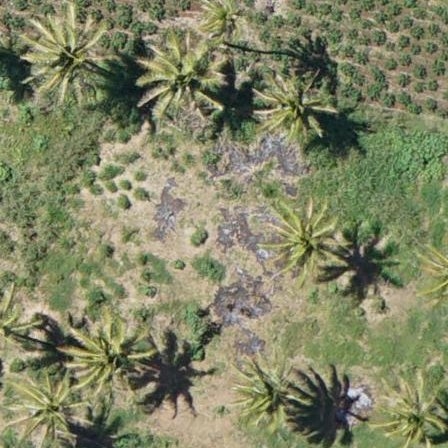palm_tree: (20, 8, 114, 98), (139, 28, 227, 118), (260, 190, 342, 278), (371, 377, 443, 446), (10, 378, 80, 448), (74, 319, 141, 390), (229, 358, 295, 423), (259, 75, 329, 136)
